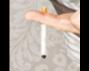Cigarette: (40, 6, 46, 58)
